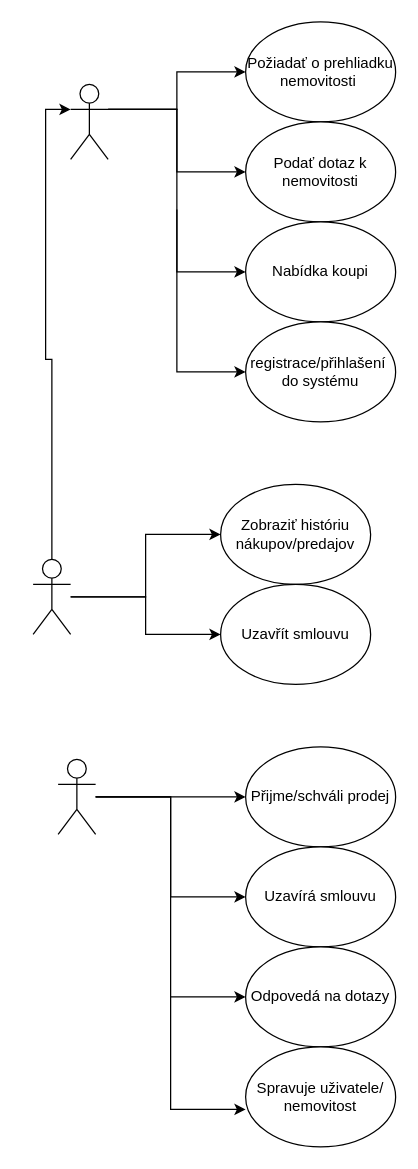
The diagram is 418 pixels wide and 1169 high, and some of its shapes have lost their labels. Here are the shapes that lost their labels. From the top down, the box of each, then its label:
(69, 83, 108, 159): Klient
(32, 558, 71, 634): Zákazník
(57, 758, 96, 834): Makléř
